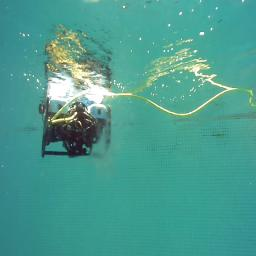back: (39, 95, 112, 165)
